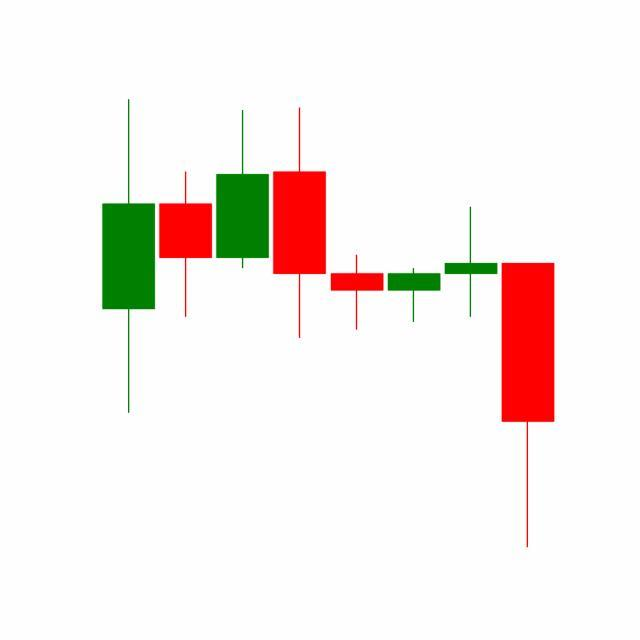Hikkake Pattern: (214, 105, 501, 342)
